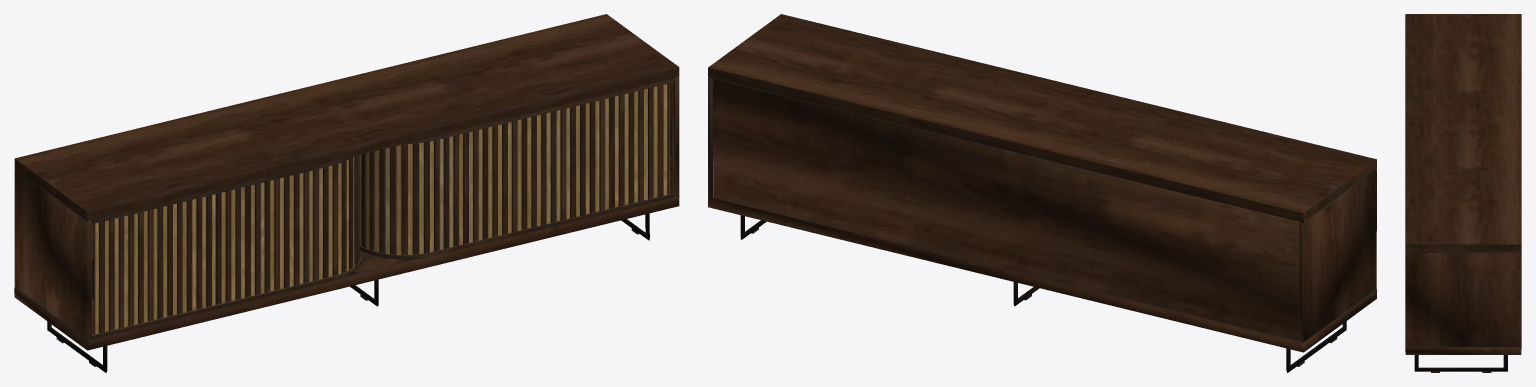
The model's file is modern_wooden_cabinet.glb.
3 views of the same model, side by side, from view 1: azimuth 30°, elevation 25°; view 2: azimuth 150°, elevation 25°; view 3: azimuth 270°, elevation 25° (orthographic). The views are drawn at different scales.
Parts seen in each view (by area): view 1: modern_wooden_cabinet_body, modern_wooden_cabinet_door_l; view 2: modern_wooden_cabinet_body; view 3: modern_wooden_cabinet_body.
Part boxes in pixels (x1,y1,x2,y2): modern_wooden_cabinet_body: [14, 14, 679, 372]; modern_wooden_cabinet_door_l: [91, 82, 673, 334]; modern_wooden_cabinet_body: [708, 14, 1376, 372]; modern_wooden_cabinet_body: [1405, 14, 1521, 372].
Bounding box in the file's own units: 2.44 × 0.6801 × 0.5201.
1 material, 1 textured.
